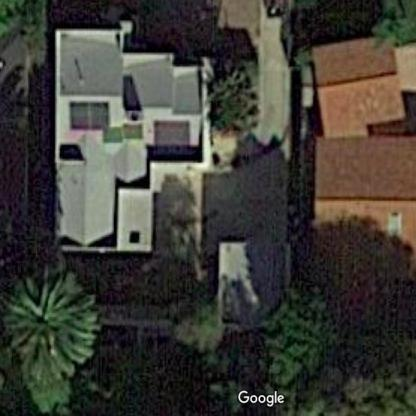solar_panel: (69, 91, 114, 140), (150, 111, 194, 161)
